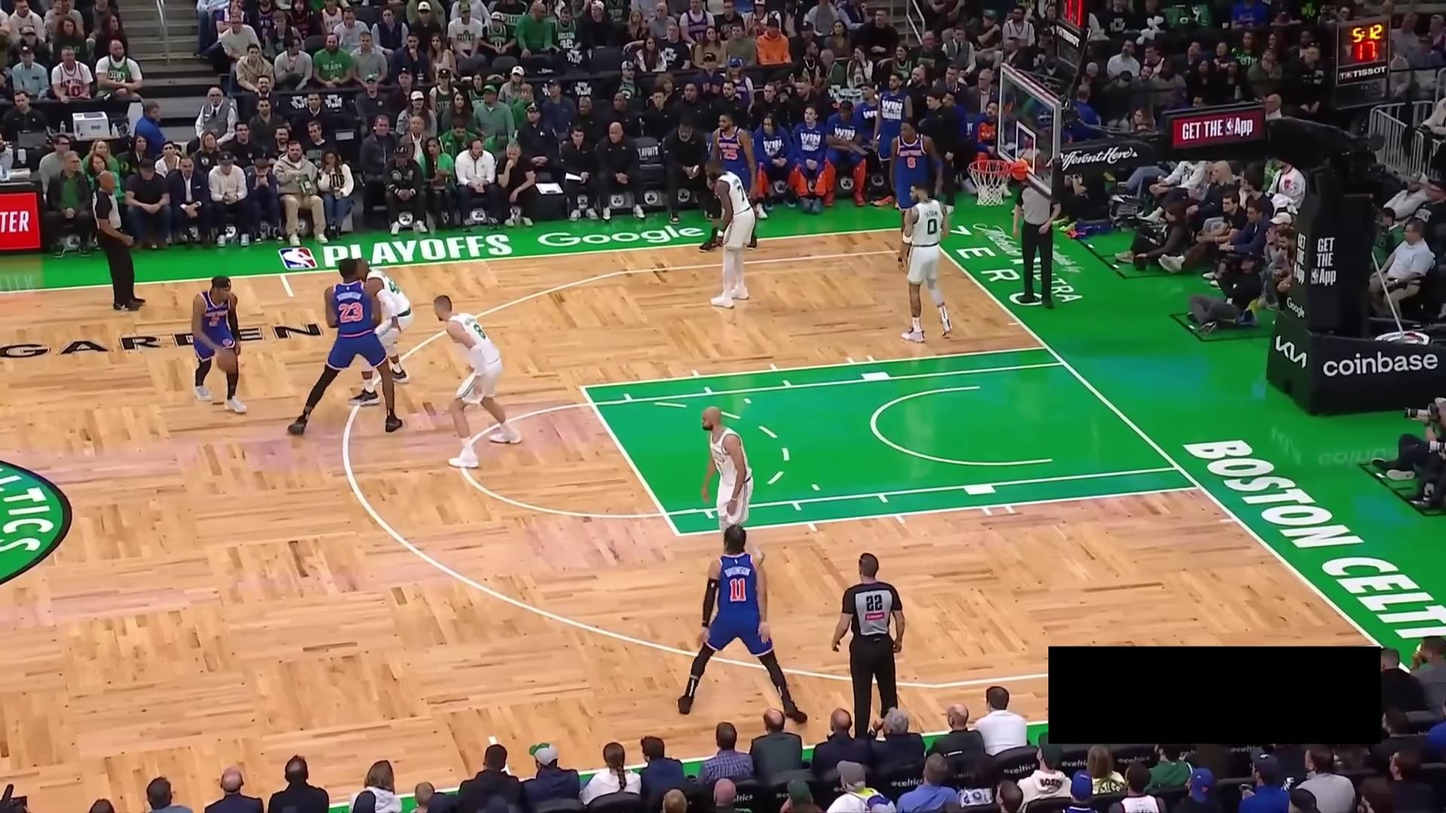ball: (215, 350, 237, 373)
number: (338, 301, 364, 321), (729, 576, 747, 603), (473, 324, 487, 340), (927, 218, 938, 236), (722, 148, 738, 160), (737, 184, 747, 202), (209, 315, 220, 327), (907, 156, 916, 169)
player: (676, 523, 807, 726), (288, 257, 404, 437), (432, 294, 523, 468), (700, 403, 767, 571), (346, 257, 415, 405), (896, 179, 954, 344), (700, 111, 760, 253), (703, 156, 757, 309), (887, 118, 945, 253)
player-in-possession: (190, 274, 249, 414)
referee: (831, 552, 906, 739), (92, 170, 148, 311), (1012, 179, 1061, 309)
rim: (967, 158, 1014, 175)
